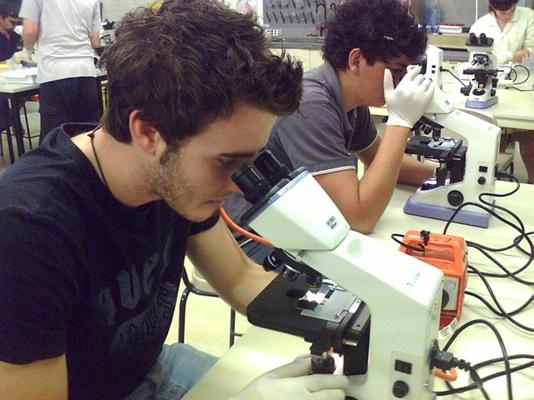person: (3, 4, 349, 400)
